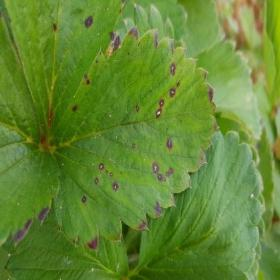Leaf Spot: (48, 25, 220, 252), (3, 0, 126, 142)
